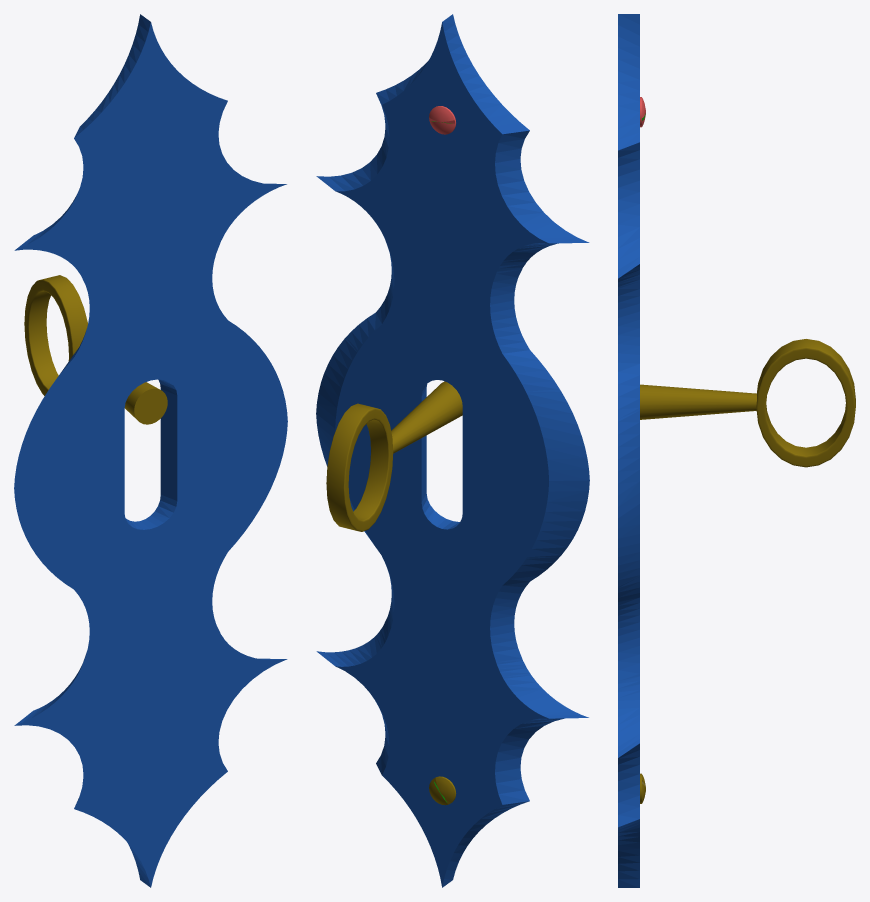
Rendered from doorlock.obj.
3 renders of one model, left to right at view 1: azimuth 30°, elevation 25°; view 2: azimuth 150°, elevation 25°; view 3: azimuth 270°, elevation 25°, orthographic.
Visible parts, largest first — view 1: Group_002, Group_001; view 2: Group_002, Group_001, Group_003, Group_008; view 3: Group_002, Group_001.
Part boxes in pixels (box(x1,y1,x2,y2)): Group_002: box(14, 14, 287, 887); Group_001: box(24, 275, 167, 424); Group_002: box(316, 14, 589, 887); Group_001: box(326, 381, 462, 531); Group_003: box(429, 106, 455, 134); Group_008: box(429, 776, 456, 805); Group_002: box(618, 14, 639, 887); Group_001: box(640, 339, 855, 467).
Bounding box in the file's own units: 1.15 × 3.49 × 0.8602.
